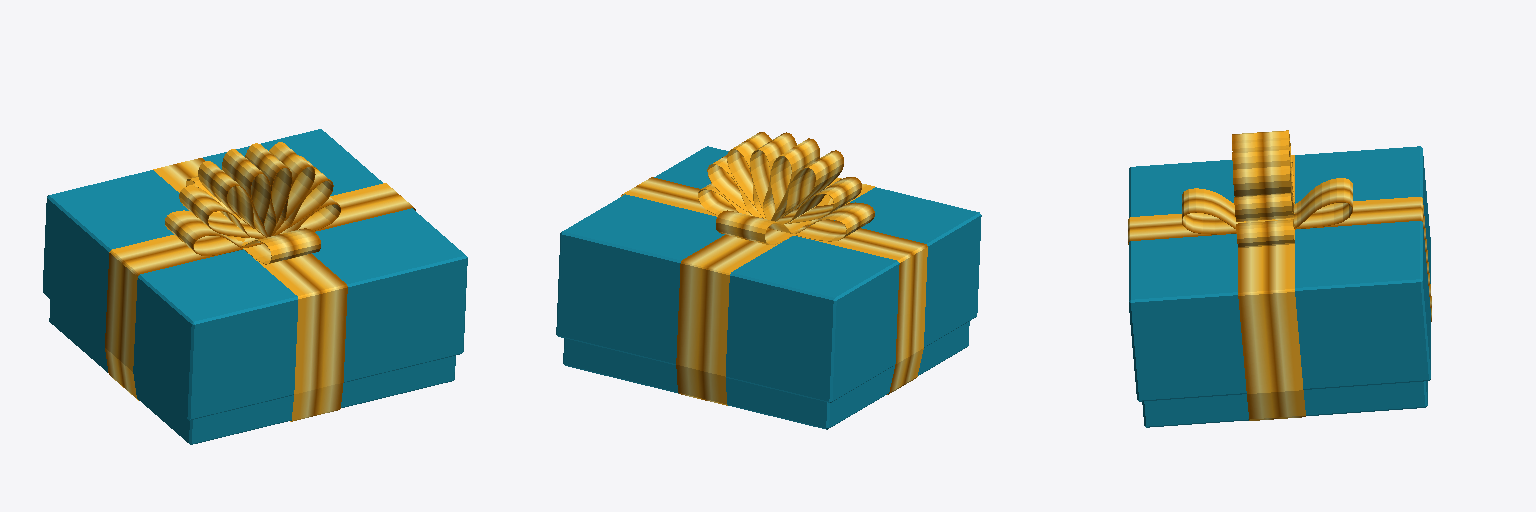
The picture shows the model from 3 angles: view 1: azimuth 30°, elevation 25°; view 2: azimuth 150°, elevation 25°; view 3: azimuth 270°, elevation 25°; orthographic projection.
Visible parts, largest first — view 1: Malla de Box04, Malla de Plane06, Malla de Box03, Malla de Plane04, Malla de Plane09, Malla de Plane10, Malla de Plane11, Malla de Plane08, Malla de Plane07; view 2: Malla de Box04, Malla de Box03, Malla de Plane06, Malla de Plane04, Malla de Plane09, Malla de Plane10, Malla de Plane11, Malla de Plane08, Malla de Plane07; view 3: Malla de Box04, Malla de Plane04, Malla de Box03, Malla de Plane07, Malla de Plane06, Malla de Plane10, Malla de Plane09, Malla de Plane08, Malla de Plane11.
Part boxes in pixels (x1,y1,x2,y2): Malla de Box04: (43,129,467,420); Malla de Plane06: (153,158,347,421); Malla de Box03: (49,299,455,444); Malla de Plane04: (105,183,415,400); Malla de Plane09: (222,143,292,236); Malla de Plane10: (198,142,315,237); Malla de Plane11: (179,156,333,238); Malla de Plane08: (165,197,340,255); Malla de Plane07: (186,176,320,264); Malla de Box04: (556,146,981,402); Malla de Box03: (563,321,969,429); Malla de Plane06: (676,177,874,405); Malla de Plane04: (621,177,927,394); Malla de Plane09: (750,132,819,220); Malla de Plane10: (727,132,843,221); Malla de Plane11: (707,154,861,223); Malla de Plane08: (698,183,874,241); Malla de Plane07: (716,178,840,244); Malla de Box04: (1129,146,1430,401); Malla de Plane04: (1238,155,1305,420); Malla de Box03: (1142,381,1427,427); Malla de Plane07: (1182,178,1352,234); Malla de Plane06: (1128,197,1431,321); Malla de Plane10: (1232,130,1293,210); Malla de Plane09: (1232,137,1294,214); Malla de Plane08: (1236,162,1294,247); Malla de Plane11: (1234,143,1293,221).
Bounding box in the file's own units: 143 × 107 × 135.
Materials: 9 (1 with a texture image).